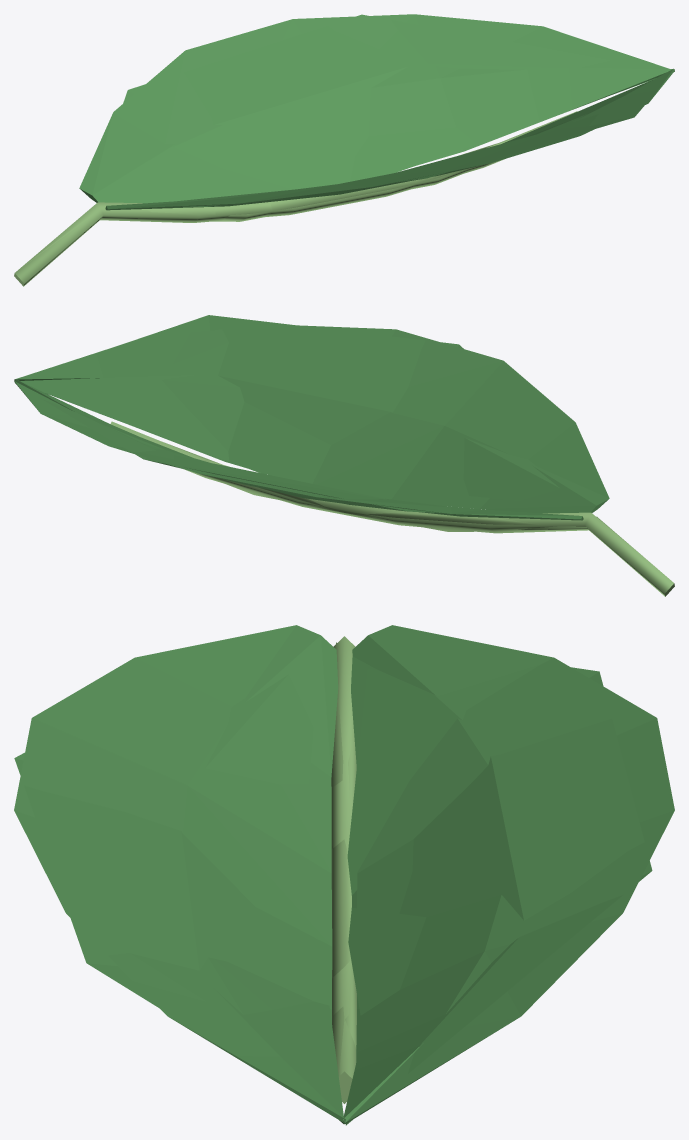
The model's file is fallen_leaf_green.glb.
3 renders of one model, top to bottom at view 1: azimuth 30°, elevation 25°; view 2: azimuth 150°, elevation 25°; view 3: azimuth 270°, elevation 25°, orthographic. The views are drawn at different scales.
Parts seen in each view (by area): view 1: body__far, body_nl, stem; view 2: body_nl, body__far, stem; view 3: body_nl, body__far, stem.
Boxes of the visible parts, x1=… form: body__far: x1=14, y1=14, x2=657, y2=286; body_nl: x1=79, y1=14, x2=674, y2=210; stem: x1=15, y1=111, x2=577, y2=286; body_nl: x1=14, y1=325, x2=609, y2=520; body__far: x1=15, y1=315, x2=674, y2=596; stem: x1=110, y1=421, x2=673, y2=596; body_nl: x1=14, y1=625, x2=674, y2=1124; body__far: x1=14, y1=642, x2=652, y2=1125; stem: x1=331, y1=636, x2=356, y2=1078.
Bounding box in the file's own units: 7.45 × 1.14 × 3.86.
